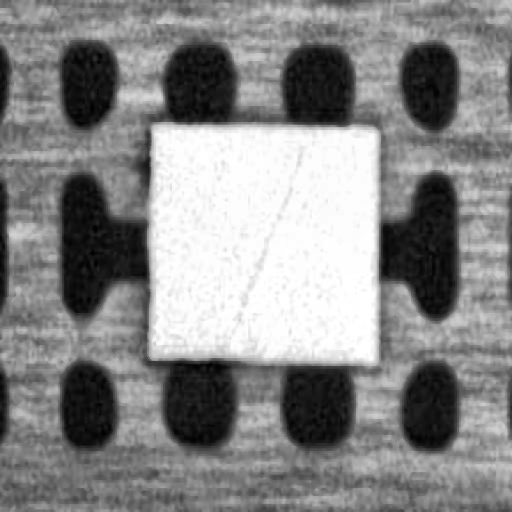DIE_CRACK: (227, 143, 301, 345)
